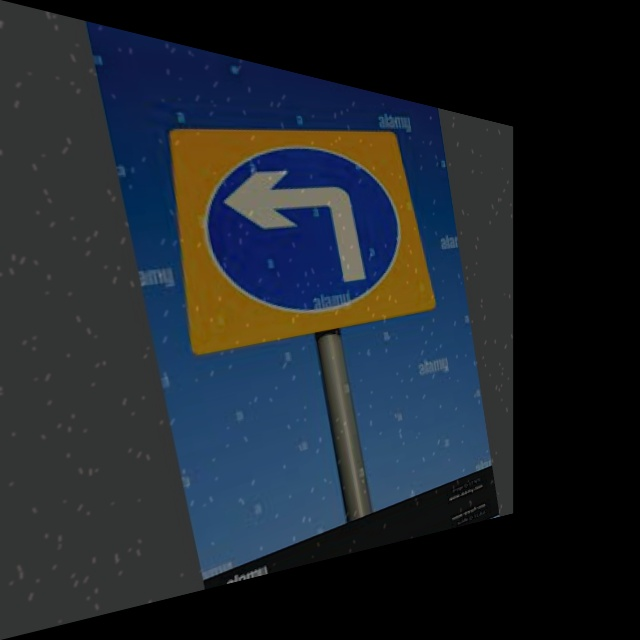Compulsory_Turn_Left_Ahead: (184, 101, 420, 337)
